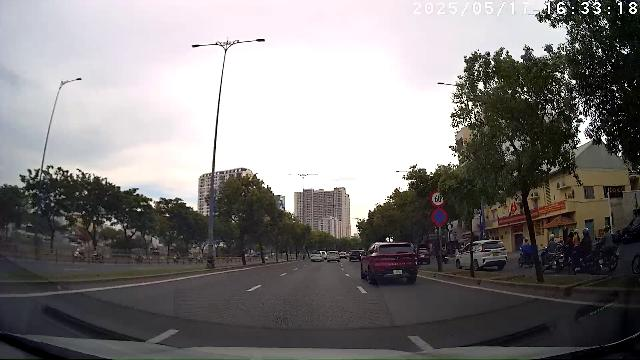127-toc-do-toi-da-60: (430, 190, 446, 208)
130-cam-dung-va-do-xe: (431, 208, 448, 227)
